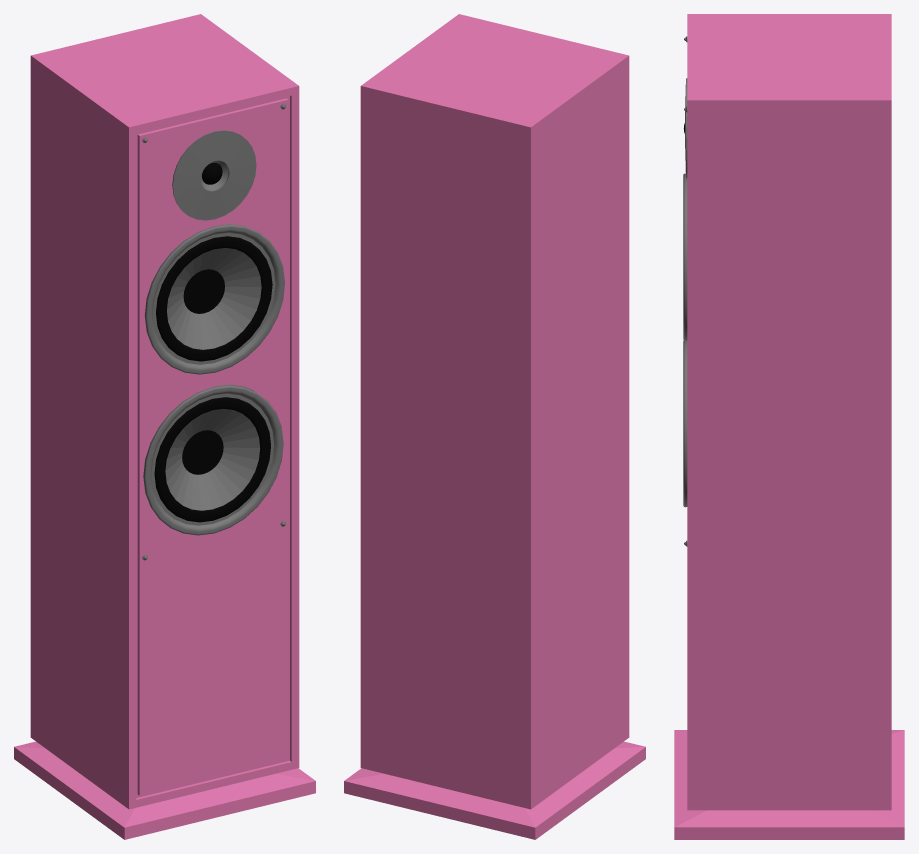
The model's file is 스피커_분_큰.FBX.
3 renders of one model, left to right at view 1: azimuth 30°, elevation 25°; view 2: azimuth 150°, elevation 25°; view 3: azimuth 270°, elevation 25°, orthographic. The views are drawn at different scales.
Parts seen in each view (by area): view 1: Box008, Circle026, Circle025, Circle023; view 2: Box008; view 3: Box008, Circle026, Circle025.
Boxes of the visible parts, bbox=[...] form: Box008: bbox=[14, 14, 315, 839]; Circle026: bbox=[143, 384, 283, 535]; Circle025: bbox=[144, 224, 284, 374]; Circle023: bbox=[172, 130, 256, 220]; Box008: bbox=[344, 14, 645, 839]; Box008: bbox=[674, 14, 904, 839]; Circle026: bbox=[683, 340, 687, 507]; Circle025: bbox=[683, 173, 687, 340].
Size of the model in its own units: 248 by 875 by 248.
